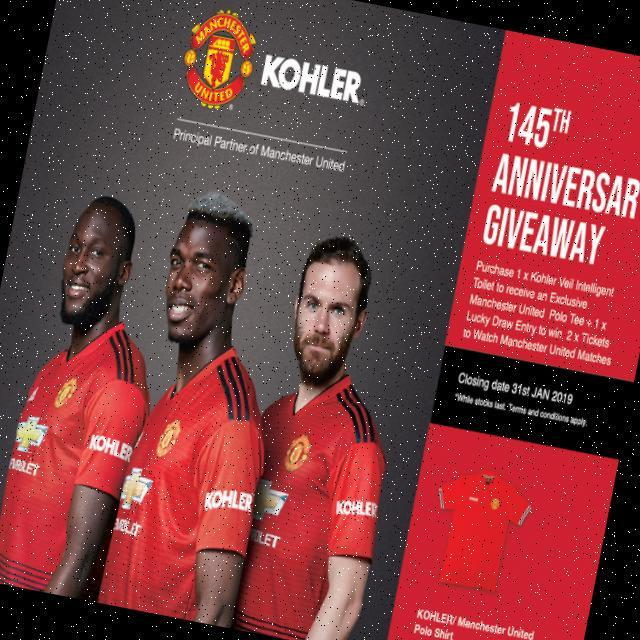Chevrolet: (111, 464, 158, 539), (8, 414, 49, 478)
Kohler: (260, 52, 369, 106), (202, 483, 258, 517), (88, 431, 136, 463), (336, 495, 381, 525)
